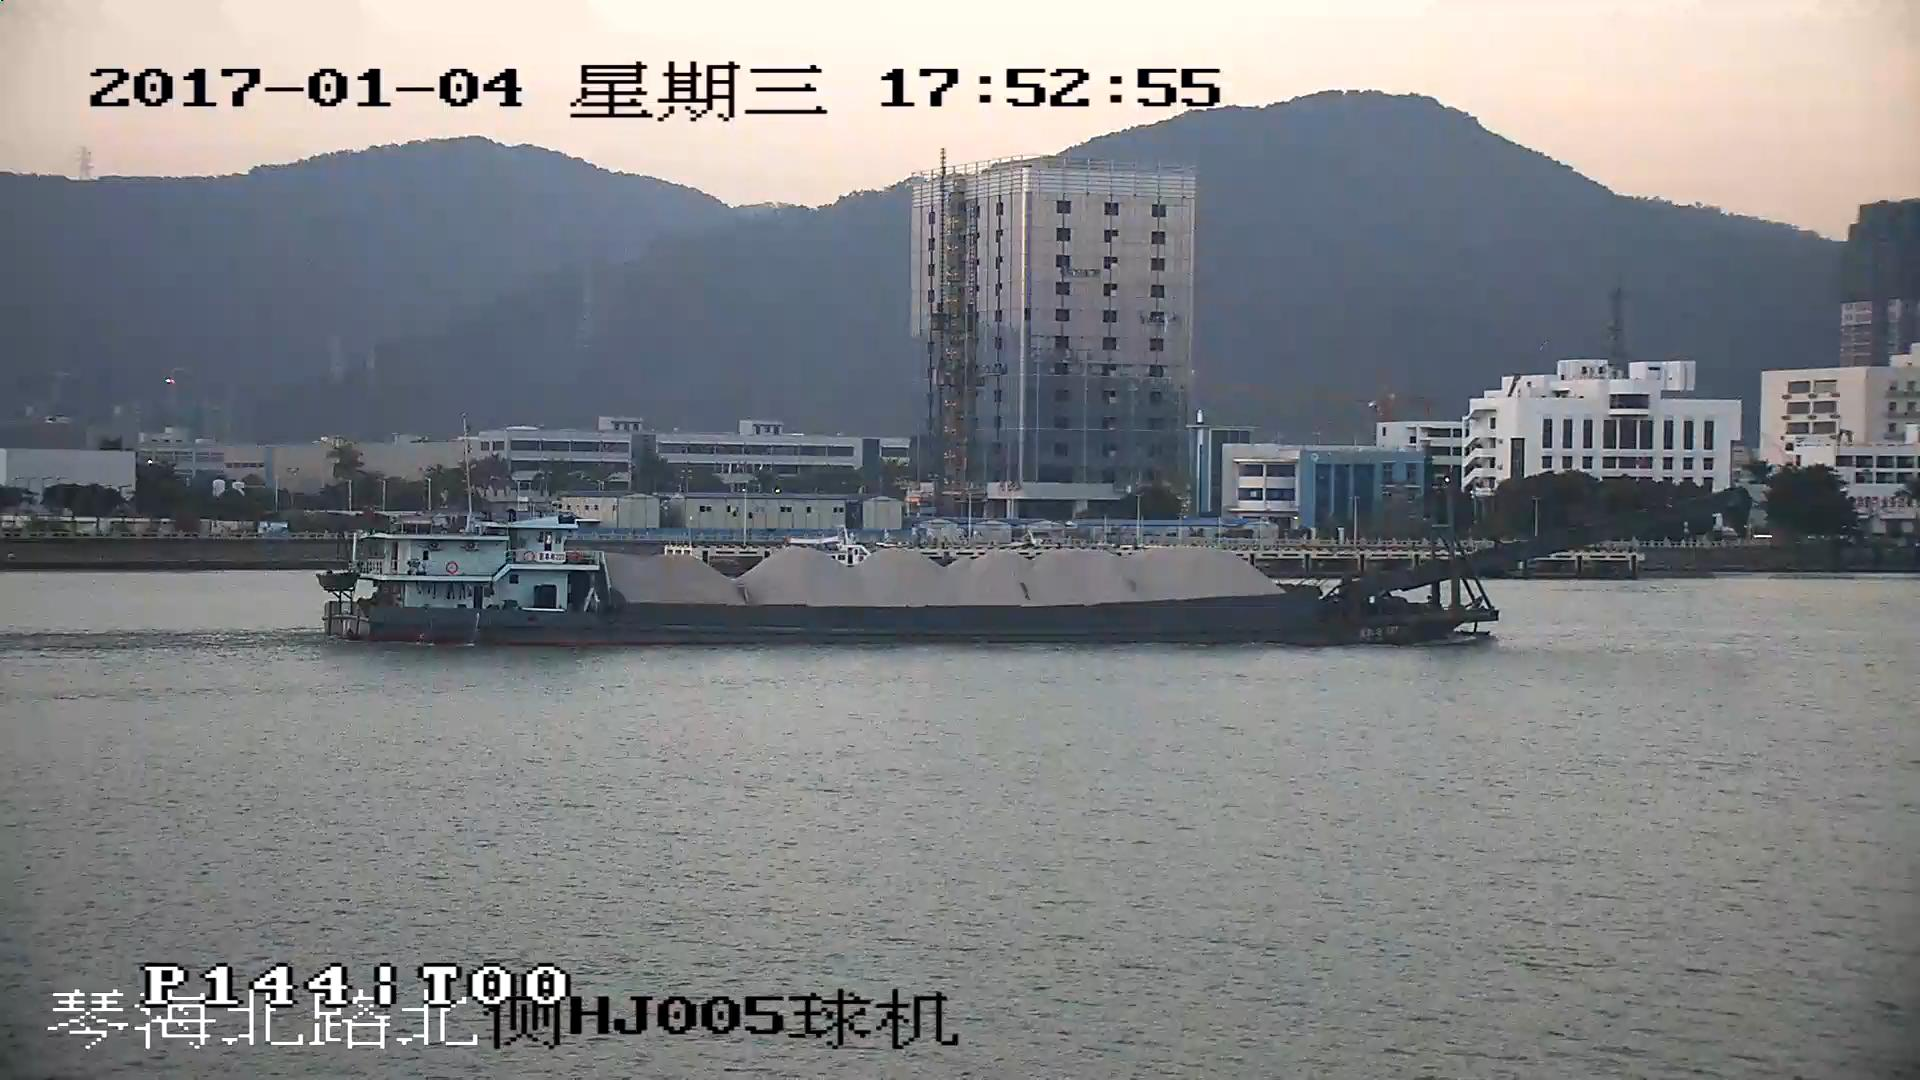ore carrier: (324, 487, 1733, 651)
